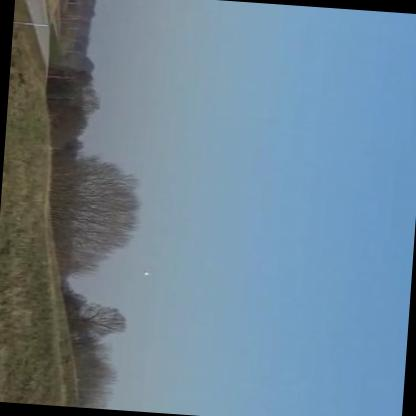plane: (139, 267, 154, 281)
